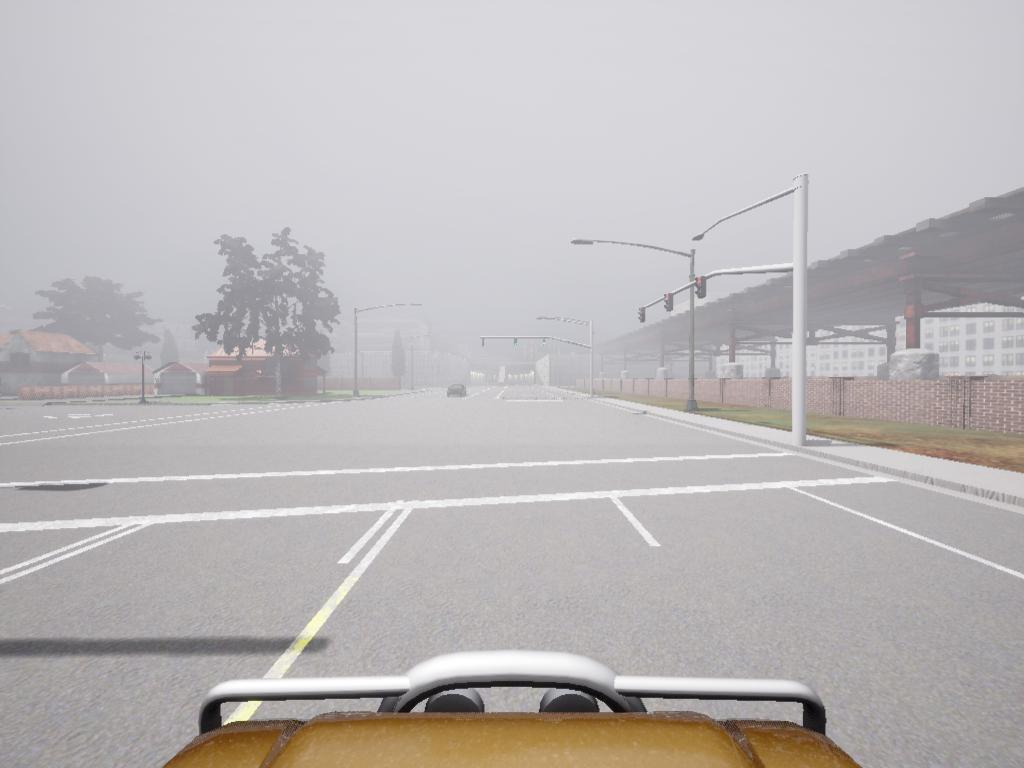traffic_light: (697, 278, 708, 301), (638, 307, 647, 326), (664, 294, 674, 311), (515, 338, 520, 352), (481, 338, 486, 348), (543, 337, 547, 349)
